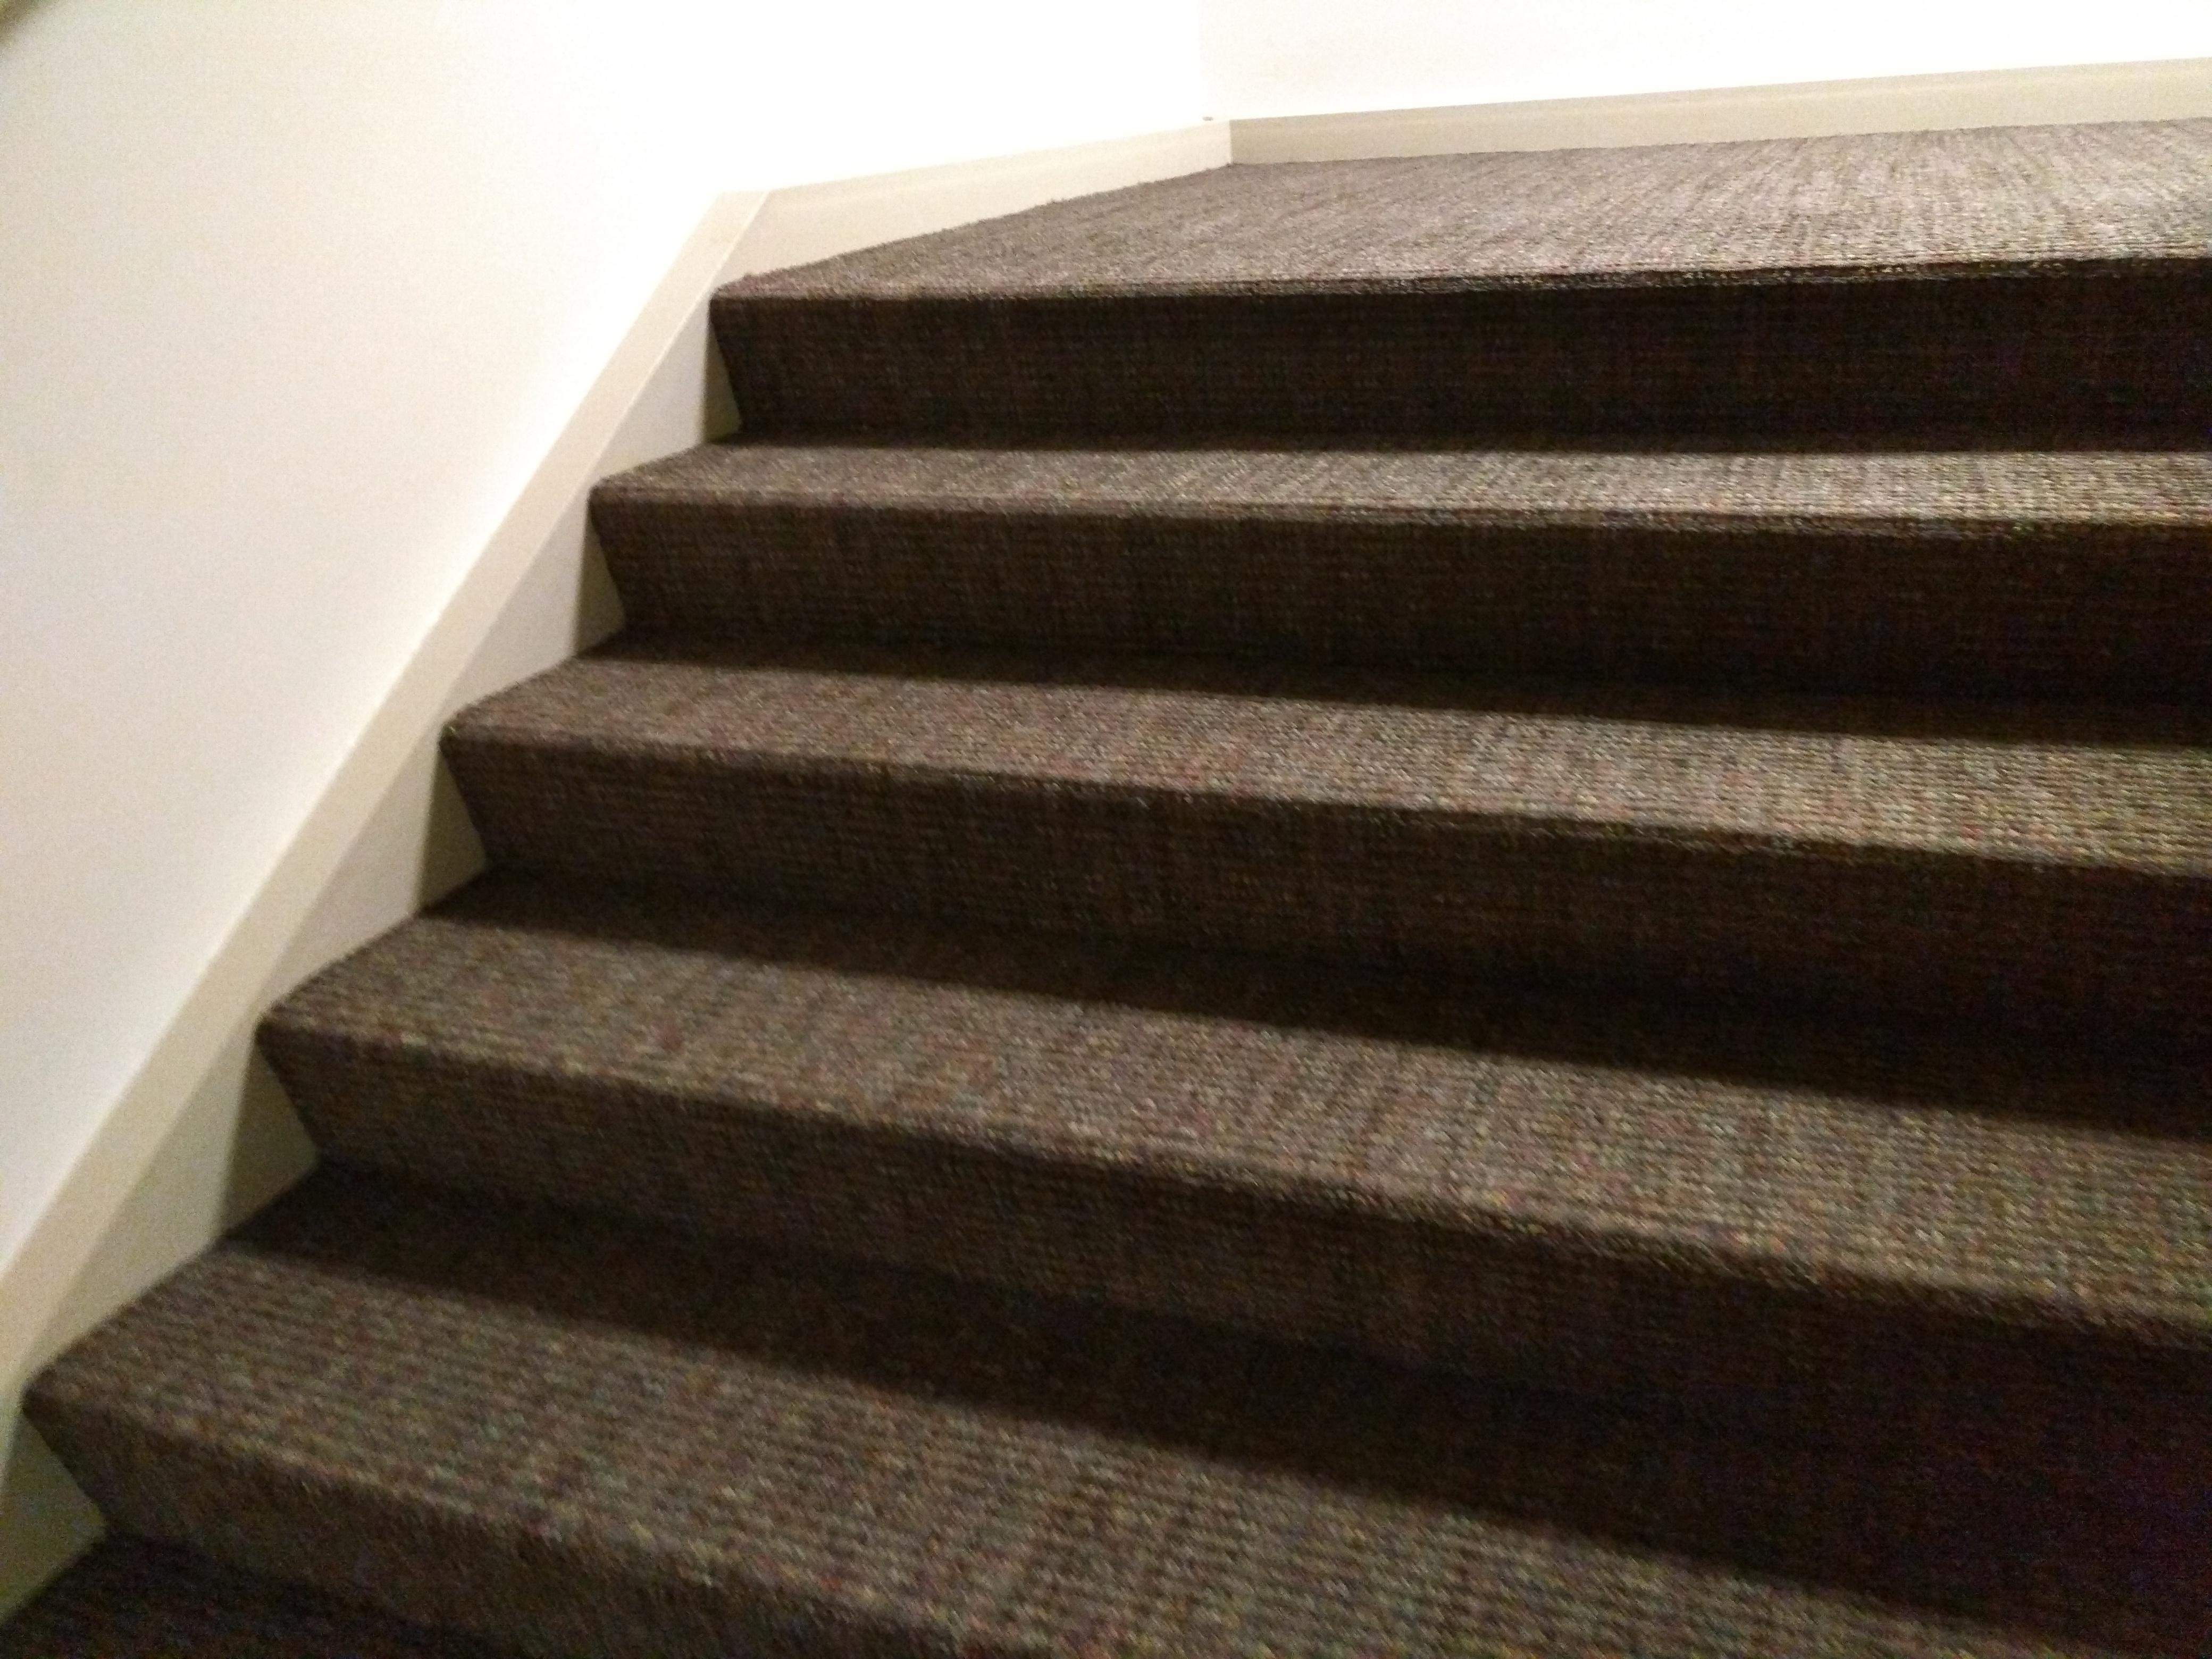stairs_up: (127, 230, 2161, 1622)
